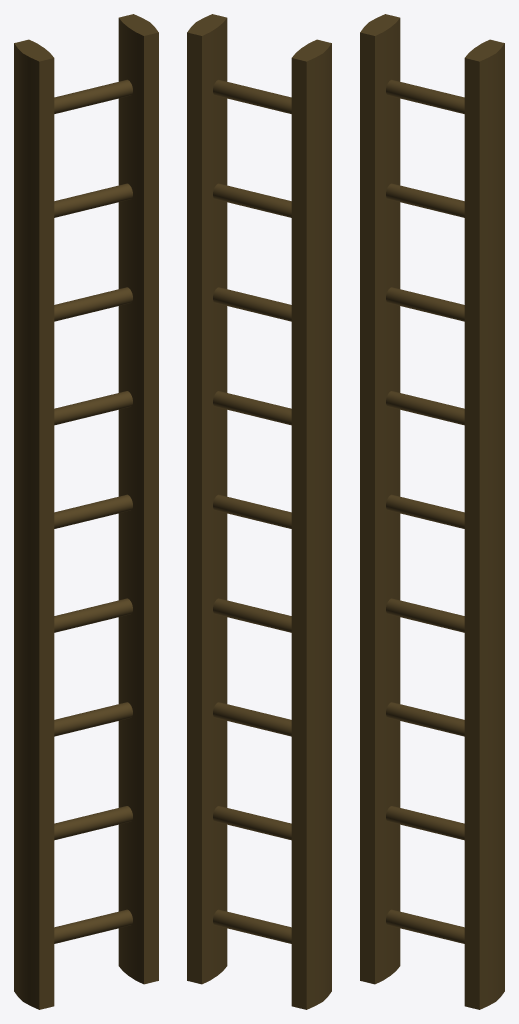
Rendered from Ladder.fbx.
3 renders of one model, left to right at view 1: azimuth 30°, elevation 25°; view 2: azimuth 150°, elevation 25°; view 3: azimuth 330°, elevation 25°, orthographic.
Parts seen in each view (by area): view 1: Cube, Cube.001; view 2: Cube, Cube.001; view 3: Cube, Cube.001.
Part boxes in pixels (x1,y1,x2,y2): Cube: [14, 14, 158, 1009]; Cube.001: [54, 79, 132, 943]; Cube: [187, 14, 331, 1009]; Cube.001: [213, 79, 291, 943]; Cube: [360, 14, 504, 1009]; Cube.001: [386, 79, 464, 943].
Size of the model in its own units: 68.54 by 488 by 23.5.
